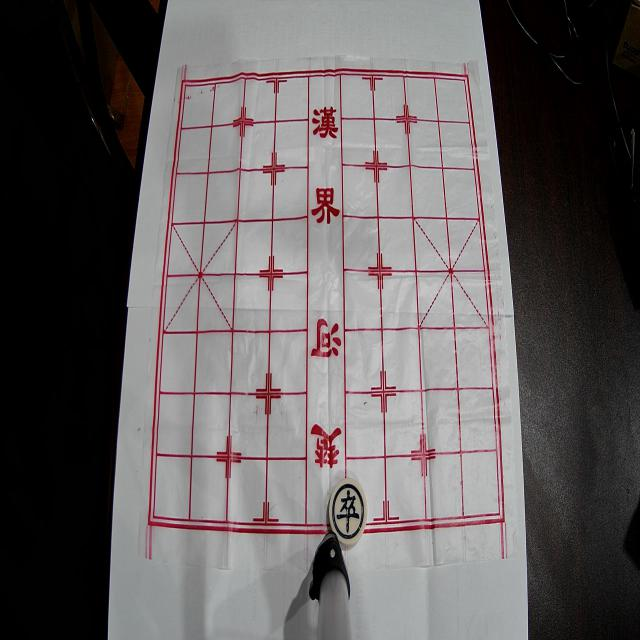black-soldier: (330, 478, 368, 545)
